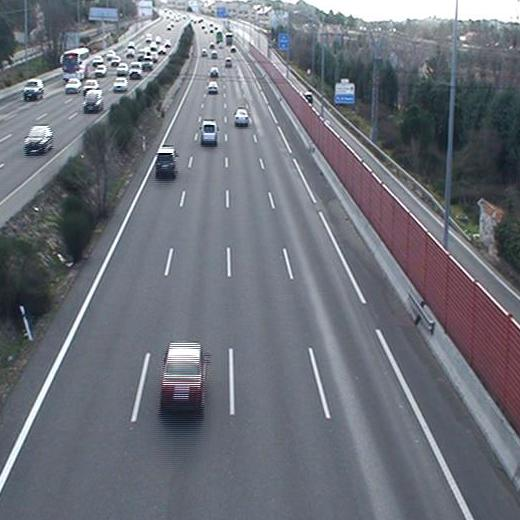car: (161, 344, 205, 408), (155, 147, 176, 178), (234, 109, 250, 127), (206, 80, 218, 95), (209, 66, 218, 76)
van: (200, 119, 218, 145)
